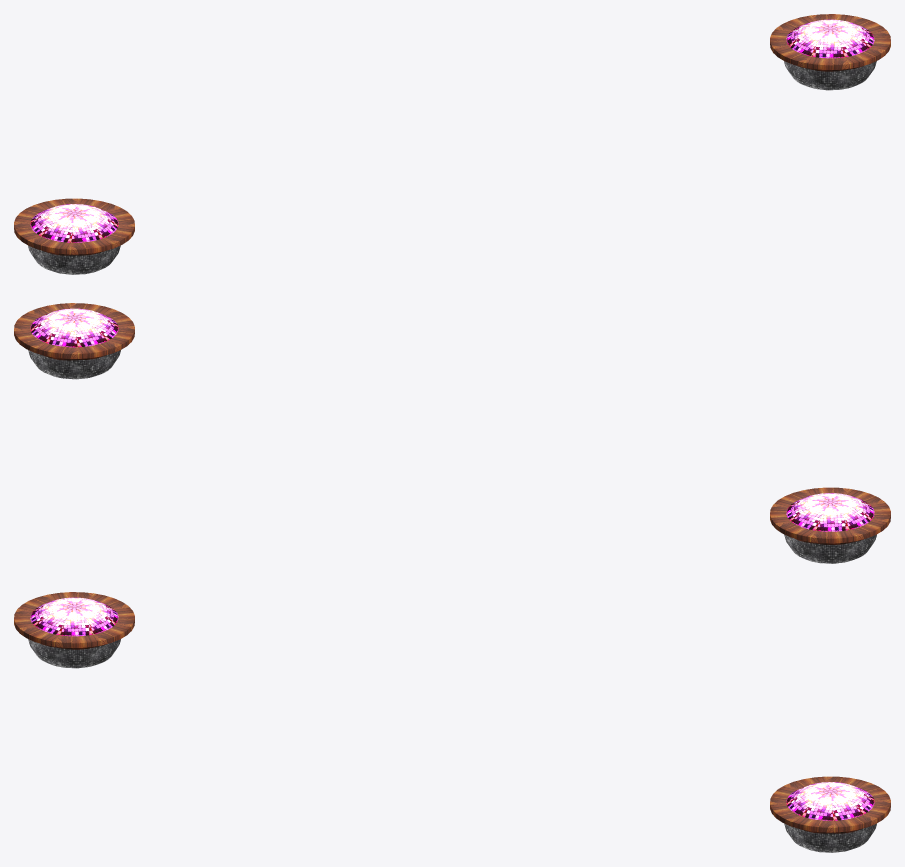
The model's file is guest_table.glb.
3 renders of one model, top to bottom at view 1: azimuth 30°, elevation 25°; view 2: azimuth 150°, elevation 25°; view 3: azimuth 330°, elevation 25°, orthographic.
Visible parts, largest first — view 1: Guest Table; view 2: Guest Table; view 3: Guest Table.
Part boxes in pixels (<box>): Guest Table: <box>14,14,890,274</box>; Guest Table: <box>14,303,890,563</box>; Guest Table: <box>14,592,890,852</box>.
Size of what is drawn, in the model's own units: 24.92 by 1.31 by 3.04.
Materials: 2 (2 with a texture image).
